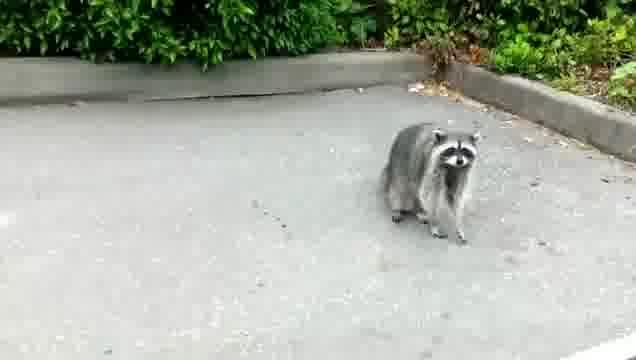raccoon: (380, 122, 482, 246)
